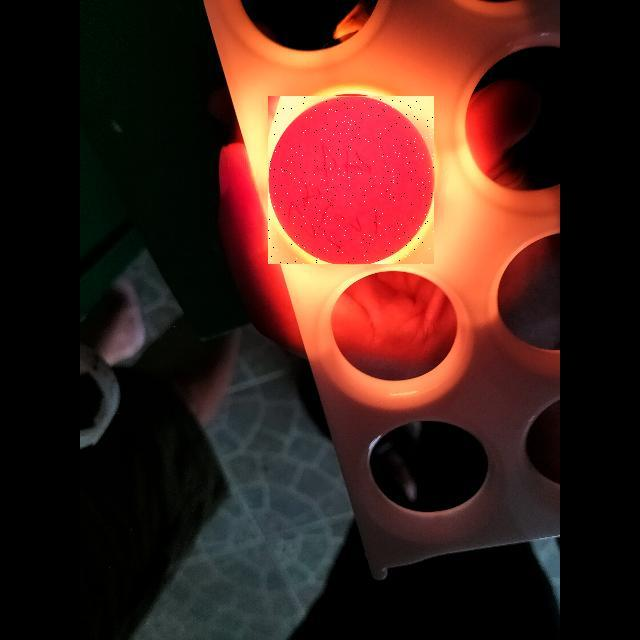Infertile: (268, 96, 434, 264)
